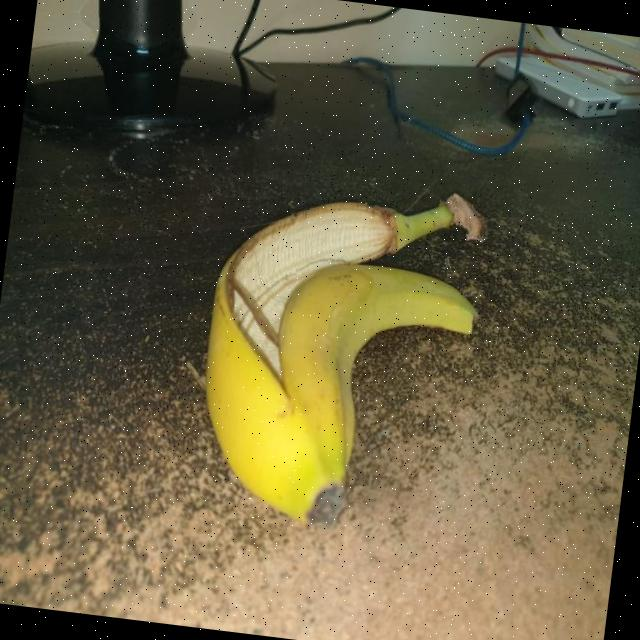banana-peel: (183, 163, 492, 542)
